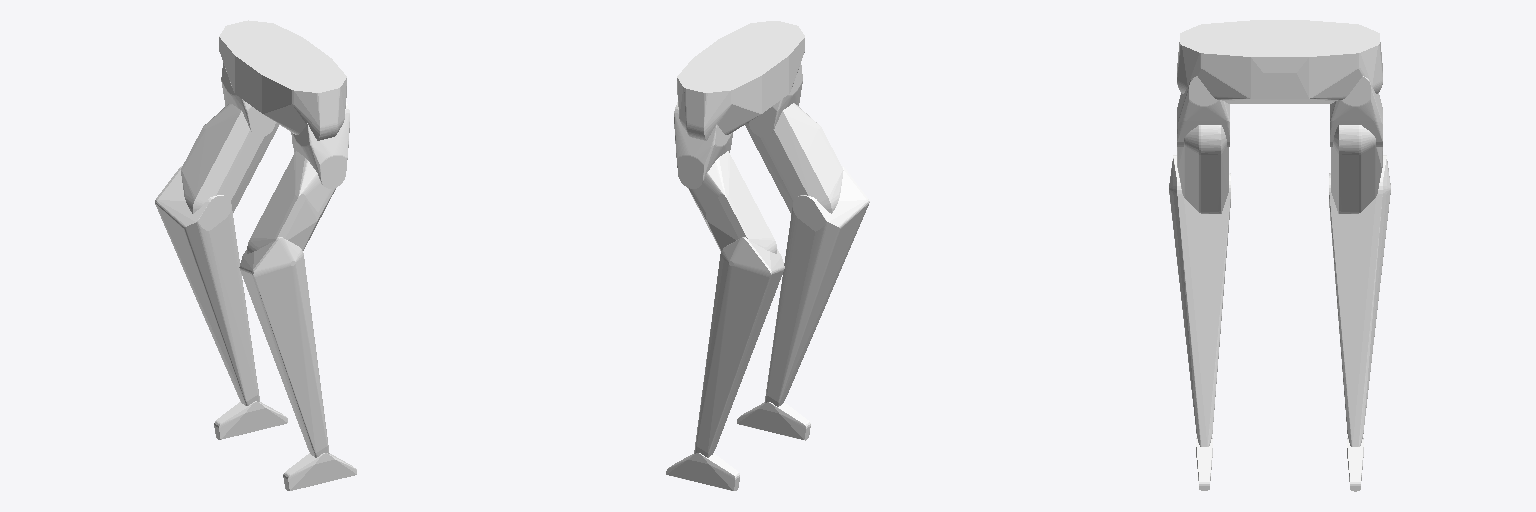
The robot description file, URDF, robot "spryped_urdf_rev05":
<?xml version="1.0" encoding="utf-8"?>
<!-- This URDF was automatically created by SolidWorks to URDF Exporter! Originally created by [author] ([email redacted]) 
     Commit Version: 1.5.1-0-g916b5db  Build Version: 1.5.7152.31018
     For more information, please see http://wiki.ros.org/sw_urdf_exporter -->
<robot
  name="spryped_urdf_rev05">
  <link
    name="body">
    <inertial>
      <origin
        xyz="0.047188 -1.437E-06 0.07617"
        rpy="0 0 0" />
      <mass
        value="3.7031" />
      <inertia
        ixx="0.0033547"
        ixy="-2.8419E-09"
        ixz="8.3206E-06"
        iyy="0.0042957"
        iyz="-2.3334E-06"
        izz="0.0059126" />
    </inertial>
    <visual>
      <origin
        xyz="0 0 0"
        rpy="0 0 0" />
      <geometry>
        <mesh
          filename="package://spryped_urdf_rev05/meshes/body.STL" />
      </geometry>
      <material
        name="">
        <color
          rgba="1 1 1 1" />
      </material>
    </visual>
    <collision>
      <origin
        xyz="0 0 0"
        rpy="0 0 0" />
      <geometry>
        <mesh
          filename="package://spryped_urdf_rev05/meshes/body.STL" />
      </geometry>
    </collision>
  </link>
  <link
    name="left femur">
    <inertial>
      <origin
        xyz="-0.050952 0.0014637 -0.056842"
        rpy="0 0 0" />
      <mass
        value="0.30999" />
      <inertia
        ixx="0.00070116"
        ixy="9.483E-08"
        ixz="-3.5726E-05"
        iyy="0.00069104"
        iyz="3.5642E-05"
        izz="0.00059024" />
    </inertial>
    <visual>
      <origin
        xyz="0 0 0"
        rpy="0 0 0" />
      <geometry>
        <mesh
          filename="package://spryped_urdf_rev05/meshes/left femur.STL" />
      </geometry>
      <material
        name="">
        <color
          rgba="1 1 1 1" />
      </material>
    </visual>
    <collision>
      <origin
        xyz="0 0 0"
        rpy="0 0 0" />
      <geometry>
        <mesh
          filename="package://spryped_urdf_rev05/meshes/left femur.STL" />
      </geometry>
    </collision>
  </link>
  <joint
    name="1"
    type="revolute">
    <origin
      xyz="0.10347219333668 0.144 0.0559037377303131"
      rpy="0 0 0" />
    <parent
      link="body" />
    <child
      link="left femur" />
    <axis
      xyz="1 0 0" />
    <limit
      lower="-3.14"
      upper="3.14"
      effort="0"
      velocity="0" />
  </joint>
  <link
    name="left tibiotarsus">
    <inertial>
      <origin
        xyz="-0.053318 0.049182 -0.084109"
        rpy="0 0 0" />
      <mass
        value="2.8758" />
      <inertia
        ixx="0.0035003"
        ixy="-7.3489E-08"
        ixz="-0.0014845"
        iyy="0.0053353"
        iyz="-1.0934E-07"
        izz="0.0022541" />
    </inertial>
    <visual>
      <origin
        xyz="0 0 0"
        rpy="0 0 0" />
      <geometry>
        <mesh
          filename="package://spryped_urdf_rev05/meshes/left tibiotarsus.STL" />
      </geometry>
      <material
        name="">
        <color
          rgba="1 1 1 1" />
      </material>
    </visual>
    <collision>
      <origin
        xyz="0 0 0"
        rpy="0 0 0" />
      <geometry>
        <mesh
          filename="package://spryped_urdf_rev05/meshes/left tibiotarsus.STL" />
      </geometry>
    </collision>
  </link>
  <joint
    name="2"
    type="revolute">
    <origin
      xyz="-0.05165 -0.04965 -0.114"
      rpy="0 0 0" />
    <parent
      link="left femur" />
    <child
      link="left tibiotarsus" />
    <axis
      xyz="0 -1 0" />
    <limit
      lower="-3.14"
      upper="3.14"
      effort="0"
      velocity="0" />
  </joint>
  <link
    name="left tarsometatarsus">
    <inertial>
      <origin
        xyz="-0.003858 0.065488 -0.10614"
        rpy="0 0 0" />
      <mass
        value="0.38839" />
      <inertia
        ixx="0.0015068"
        ixy="-3.4483E-05"
        ixz="0.00031712"
        iyy="0.0015965"
        iyz="-3.1686E-05"
        izz="0.0005572" />
    </inertial>
    <visual>
      <origin
        xyz="0 0 0"
        rpy="0 0 0" />
      <geometry>
        <mesh
          filename="package://spryped_urdf_rev05/meshes/left tarsometatarsus.STL" />
      </geometry>
      <material
        name="">
        <color
          rgba="1 1 1 1" />
      </material>
    </visual>
    <collision>
      <origin
        xyz="0 0 0"
        rpy="0 0 0" />
      <geometry>
        <mesh
          filename="package://spryped_urdf_rev05/meshes/left tarsometatarsus.STL" />
      </geometry>
    </collision>
  </link>
  <joint
    name="3"
    type="revolute">
    <origin
      xyz="-0.10545393358234 -0.000500000000001388 -0.168761571135171"
      rpy="0 0 0" />
    <parent
      link="left tibiotarsus" />
    <child
      link="left tarsometatarsus" />
    <axis
      xyz="0 -1 0" />
    <limit
      lower="-3.14"
      upper="3.14"
      effort="0"
      velocity="0" />
  </joint>
  <link
    name="left toe">
    <inertial>
      <origin
        xyz="-0.0086389 0.016 -0.031995"
        rpy="0 0 0" />
      <mass
        value="0.11189" />
      <inertia
        ixx="3.2605E-05"
        ixy="7.6214E-13"
        ixz="1.9901E-06"
        iyy="0.00021756"
        iyz="8.8251E-14"
        izz="0.00019521" />
    </inertial>
    <visual>
      <origin
        xyz="0 0 0"
        rpy="0 0 0" />
      <geometry>
        <mesh
          filename="package://spryped_urdf_rev05/meshes/left toe.STL" />
      </geometry>
      <material
        name="">
        <color
          rgba="1 1 1 1" />
      </material>
    </visual>
    <collision>
      <origin
        xyz="0 0 0"
        rpy="0 0 0" />
      <geometry>
        <mesh
          filename="package://spryped_urdf_rev05/meshes/left toe.STL" />
      </geometry>
    </collision>
  </link>
  <joint
    name="4"
    type="revolute">
    <origin
      xyz="0.106943415565972 0.0339000000000015 -0.488429222986096"
      rpy="0 0 0" />
    <parent
      link="left tarsometatarsus" />
    <child
      link="left toe" />
    <axis
      xyz="0 -1 0" />
    <limit
      lower="-3.14"
      upper="3.14"
      effort="0"
      velocity="0" />
  </joint>
  <link
    name="right femur">
    <inertial>
      <origin
        xyz="-0.050952 -0.0014638 -0.056842"
        rpy="0 0 0" />
      <mass
        value="0.30999" />
      <inertia
        ixx="0.00070116"
        ixy="-9.5179E-08"
        ixz="-3.5726E-05"
        iyy="0.00069104"
        iyz="-3.5642E-05"
        izz="0.00059025" />
    </inertial>
    <visual>
      <origin
        xyz="0 0 0"
        rpy="0 0 0" />
      <geometry>
        <mesh
          filename="package://spryped_urdf_rev05/meshes/right femur.STL" />
      </geometry>
      <material
        name="">
        <color
          rgba="1 1 1 1" />
      </material>
    </visual>
    <collision>
      <origin
        xyz="0 0 0"
        rpy="0 0 0" />
      <geometry>
        <mesh
          filename="package://spryped_urdf_rev05/meshes/right femur.STL" />
      </geometry>
    </collision>
  </link>
  <joint
    name="5"
    type="revolute">
    <origin
      xyz="0.10347 -0.144 0.055904"
      rpy="0 0 0" />
    <parent
      link="body" />
    <child
      link="right femur" />
    <axis
      xyz="1 0 0" />
    <limit
      lower="-3.14"
      upper="3.14"
      effort="0"
      velocity="0" />
  </joint>
  <link
    name="right tibiotarsus">
    <inertial>
      <origin
        xyz="-0.053318 -0.049249 -0.084109"
        rpy="0 0 0" />
      <mass
        value="2.8758" />
      <inertia
        ixx="0.0035003"
        ixy="7.1452E-08"
        ixz="-0.0014845"
        iyy="0.0053353"
        iyz="1.2268E-07"
        izz="0.0022541" />
    </inertial>
    <visual>
      <origin
        xyz="0 0 0"
        rpy="0 0 0" />
      <geometry>
        <mesh
          filename="package://spryped_urdf_rev05/meshes/right tibiotarsus.STL" />
      </geometry>
      <material
        name="">
        <color
          rgba="1 1 1 1" />
      </material>
    </visual>
    <collision>
      <origin
        xyz="0 0 0"
        rpy="0 0 0" />
      <geometry>
        <mesh
          filename="package://spryped_urdf_rev05/meshes/right tibiotarsus.STL" />
      </geometry>
    </collision>
  </link>
  <joint
    name="6"
    type="revolute">
    <origin
      xyz="-0.0516500000000863 0.04965 -0.114"
      rpy="0 0 0" />
    <parent
      link="right femur" />
    <child
      link="right tibiotarsus" />
    <axis
      xyz="0 1 0" />
    <limit
      lower="-3.14"
      upper="3.14"
      effort="0"
      velocity="0" />
  </joint>
  <link
    name="right tarsometatarsus">
    <inertial>
      <origin
        xyz="-0.0041858 -0.065487 -0.10614"
        rpy="0 0 0" />
      <mass
        value="0.38839" />
      <inertia
        ixx="0.0015087"
        ixy="3.4579E-05"
        ixz="0.00031414"
        iyy="0.0015965"
        iyz="3.1581E-05"
        izz="0.00055526" />
    </inertial>
    <visual>
      <origin
        xyz="0 0 0"
        rpy="0 0 0" />
      <geometry>
        <mesh
          filename="package://spryped_urdf_rev05/meshes/right tarsometatarsus.STL" />
      </geometry>
      <material
        name="">
        <color
          rgba="1 1 1 1" />
      </material>
    </visual>
    <collision>
      <origin
        xyz="0 0 0"
        rpy="0 0 0" />
      <geometry>
        <mesh
          filename="package://spryped_urdf_rev05/meshes/right tarsometatarsus.STL" />
      </geometry>
    </collision>
  </link>
  <joint
    name="7"
    type="revolute">
    <origin
      xyz="-0.105453933582318 0.0005 -0.168761571135185"
      rpy="0 0 0" />
    <parent
      link="right tibiotarsus" />
    <child
      link="right tarsometatarsus" />
    <axis
      xyz="0 1 0" />
    <limit
      lower="-3.14"
      upper="3.14"
      effort="0"
      velocity="0" />
  </joint>
  <link
    name="right toe">
    <inertial>
      <origin
        xyz="-0.0086389 -0.016 -0.031995"
        rpy="0 0 0" />
      <mass
        value="0.11189" />
      <inertia
        ixx="3.2605E-05"
        ixy="7.6214E-13"
        ixz="1.9901E-06"
        iyy="0.00021756"
        iyz="8.8251E-14"
        izz="0.00019521" />
    </inertial>
    <visual>
      <origin
        xyz="0 0 0"
        rpy="0 0 0" />
      <geometry>
        <mesh
          filename="package://spryped_urdf_rev05/meshes/right toe.STL" />
      </geometry>
      <material
        name="">
        <color
          rgba="1 1 1 1" />
      </material>
    </visual>
    <collision>
      <origin
        xyz="0 0 0"
        rpy="0 0 0" />
      <geometry>
        <mesh
          filename="package://spryped_urdf_rev05/meshes/right toe.STL" />
      </geometry>
    </collision>
  </link>
  <joint
    name="8"
    type="revolute">
    <origin
      xyz="0.105453933614102 -0.0339000000000002 -0.488752972251863"
      rpy="0 0 0" />
    <parent
      link="right tarsometatarsus" />
    <child
      link="right toe" />
    <axis
      xyz="0 -1 0" />
    <limit
      lower="-3.14"
      upper="3.14"
      effort="0"
      velocity="0" />
  </joint>
</robot>

--- Render facts (derived) ---
The picture shows the robot from 3 angles, left to right: view 1: azimuth 30°, elevation 25°; view 2: azimuth 150°, elevation 25°; view 3: azimuth 270°, elevation 25°; orthographic projection.
Robot: spryped_urdf_rev05 — 9 links, 8 joints (8 revolute); root link body; default pose: all joints at 0.
Links seen in each view (by area): view 1: body, left tarsometatarsus, right tarsometatarsus, left tibiotarsus, right tibiotarsus, right femur, left toe, right toe, left femur; view 2: body, right tarsometatarsus, left tarsometatarsus, right tibiotarsus, left tibiotarsus, left femur, left toe, right toe, right femur; view 3: body, left tarsometatarsus, right tarsometatarsus, right tibiotarsus, left tibiotarsus, left femur, right femur, left toe, right toe.
Boxes of the visible links, <box> form: body: <box>219,20,346,140</box>; left tarsometatarsus: <box>155,166,259,405</box>; right tarsometatarsus: <box>239,237,329,457</box>; left tibiotarsus: <box>181,103,278,213</box>; right tibiotarsus: <box>247,151,335,253</box>; right femur: <box>291,102,349,188</box>; left toe: <box>214,401,287,439</box>; right toe: <box>283,453,356,490</box>; left femur: <box>221,63,275,136</box>; body: <box>677,21,804,140</box>; right tarsometatarsus: <box>765,166,869,406</box>; left tarsometatarsus: <box>694,237,784,457</box>; right tibiotarsus: <box>745,103,843,213</box>; left tibiotarsus: <box>688,151,776,253</box>; left femur: <box>674,102,732,188</box>; left toe: <box>666,453,739,490</box>; right toe: <box>737,402,810,440</box>; right femur: <box>748,64,802,136</box>; body: <box>1177,20,1382,103</box>; left tarsometatarsus: <box>1329,155,1390,446</box>; right tarsometatarsus: <box>1169,155,1230,446</box>; right tibiotarsus: <box>1177,125,1228,213</box>; left tibiotarsus: <box>1331,125,1382,213</box>; left femur: <box>1330,76,1382,146</box>; right femur: <box>1177,76,1229,146</box>; left toe: <box>1347,438,1363,491</box>; right toe: <box>1196,438,1212,490</box>.
Bounding box of the posed robot: 0.2765 × 0.4222 × 0.9105 m (x, y, z).
Meshes: 9 distinct files referenced, 9 mesh visuals loaded (9 binary STL).